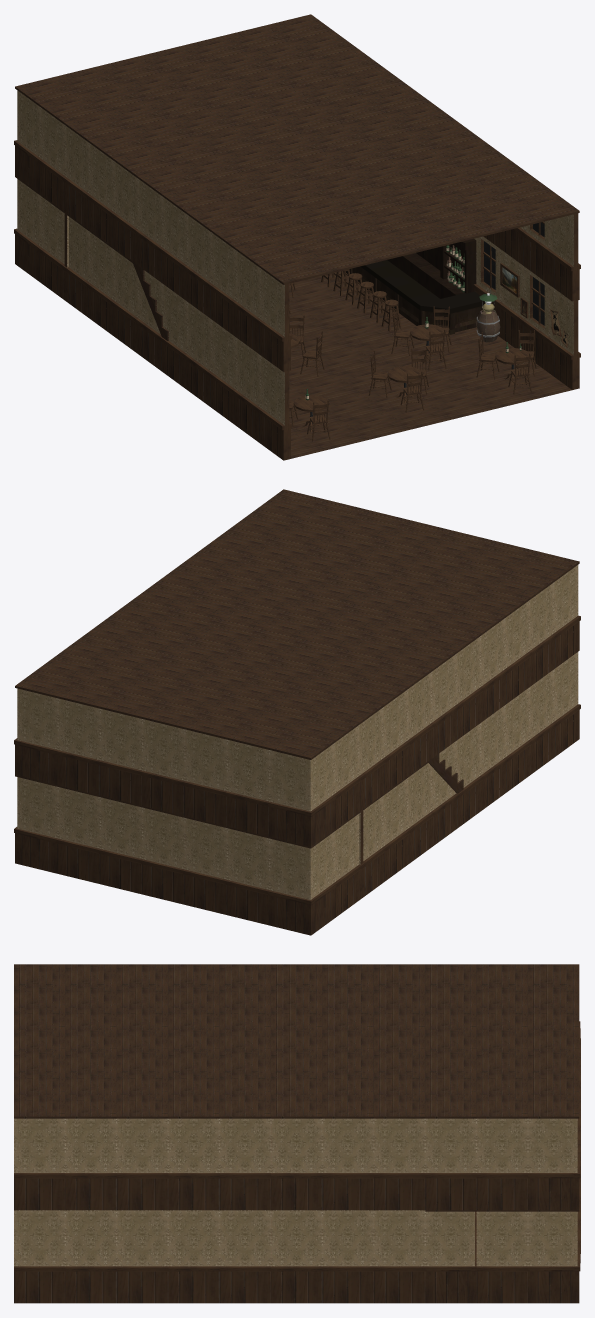
Rendered from saloon_interior.glb.
3 views of the same model, one above another, from view 1: azimuth 30°, elevation 25°; view 2: azimuth 150°, elevation 25°; view 3: azimuth 270°, elevation 25° (orthographic). The views are drawn at different scales.
Parts seen in each view (by area): view 1: EnvironmentBuilt:SM_Stairs1_M_Floor_0, EnvironmentBuilt:SM_Table1_M_WallTexture1024_0, EnvironmentBuilt:SM_BarLeft2_M_BarCounter_0, EnvironmentBuilt:SM_BanisterStairRight1_M_WoodGrain_0, EnvironmentBuilt:SM_SquareBottle3_M_TrimSheet_0; view 2: EnvironmentBuilt:SM_Table1_M_WallTexture1024_0, EnvironmentBuilt:SM_Stairs1_M_Floor_0; view 3: EnvironmentBuilt:SM_Table1_M_WallTexture1024_0, EnvironmentBuilt:SM_Stairs1_M_Floor_0.
Boxes of the visible parts, x1,y1,x2,y2 form: EnvironmentBuilt:SM_Stairs1_M_Floor_0: [15, 14, 579, 458]; EnvironmentBuilt:SM_Table1_M_WallTexture1024_0: [14, 90, 580, 460]; EnvironmentBuilt:SM_BarLeft2_M_BarCounter_0: [343, 260, 485, 334]; EnvironmentBuilt:SM_BanisterStairRight1_M_WoodGrain_0: [387, 238, 476, 298]; EnvironmentBuilt:SM_SquareBottle3_M_TrimSheet_0: [305, 245, 521, 400]; EnvironmentBuilt:SM_Table1_M_WallTexture1024_0: [14, 565, 580, 935]; EnvironmentBuilt:SM_Stairs1_M_Floor_0: [15, 489, 579, 848]; EnvironmentBuilt:SM_Table1_M_WallTexture1024_0: [14, 1021, 580, 1303]; EnvironmentBuilt:SM_Stairs1_M_Floor_0: [14, 964, 579, 1211].
Size of the model in its own units: 0.0706 by 0.0401 by 0.1103.
Materials: 5 (5 with a texture image).
